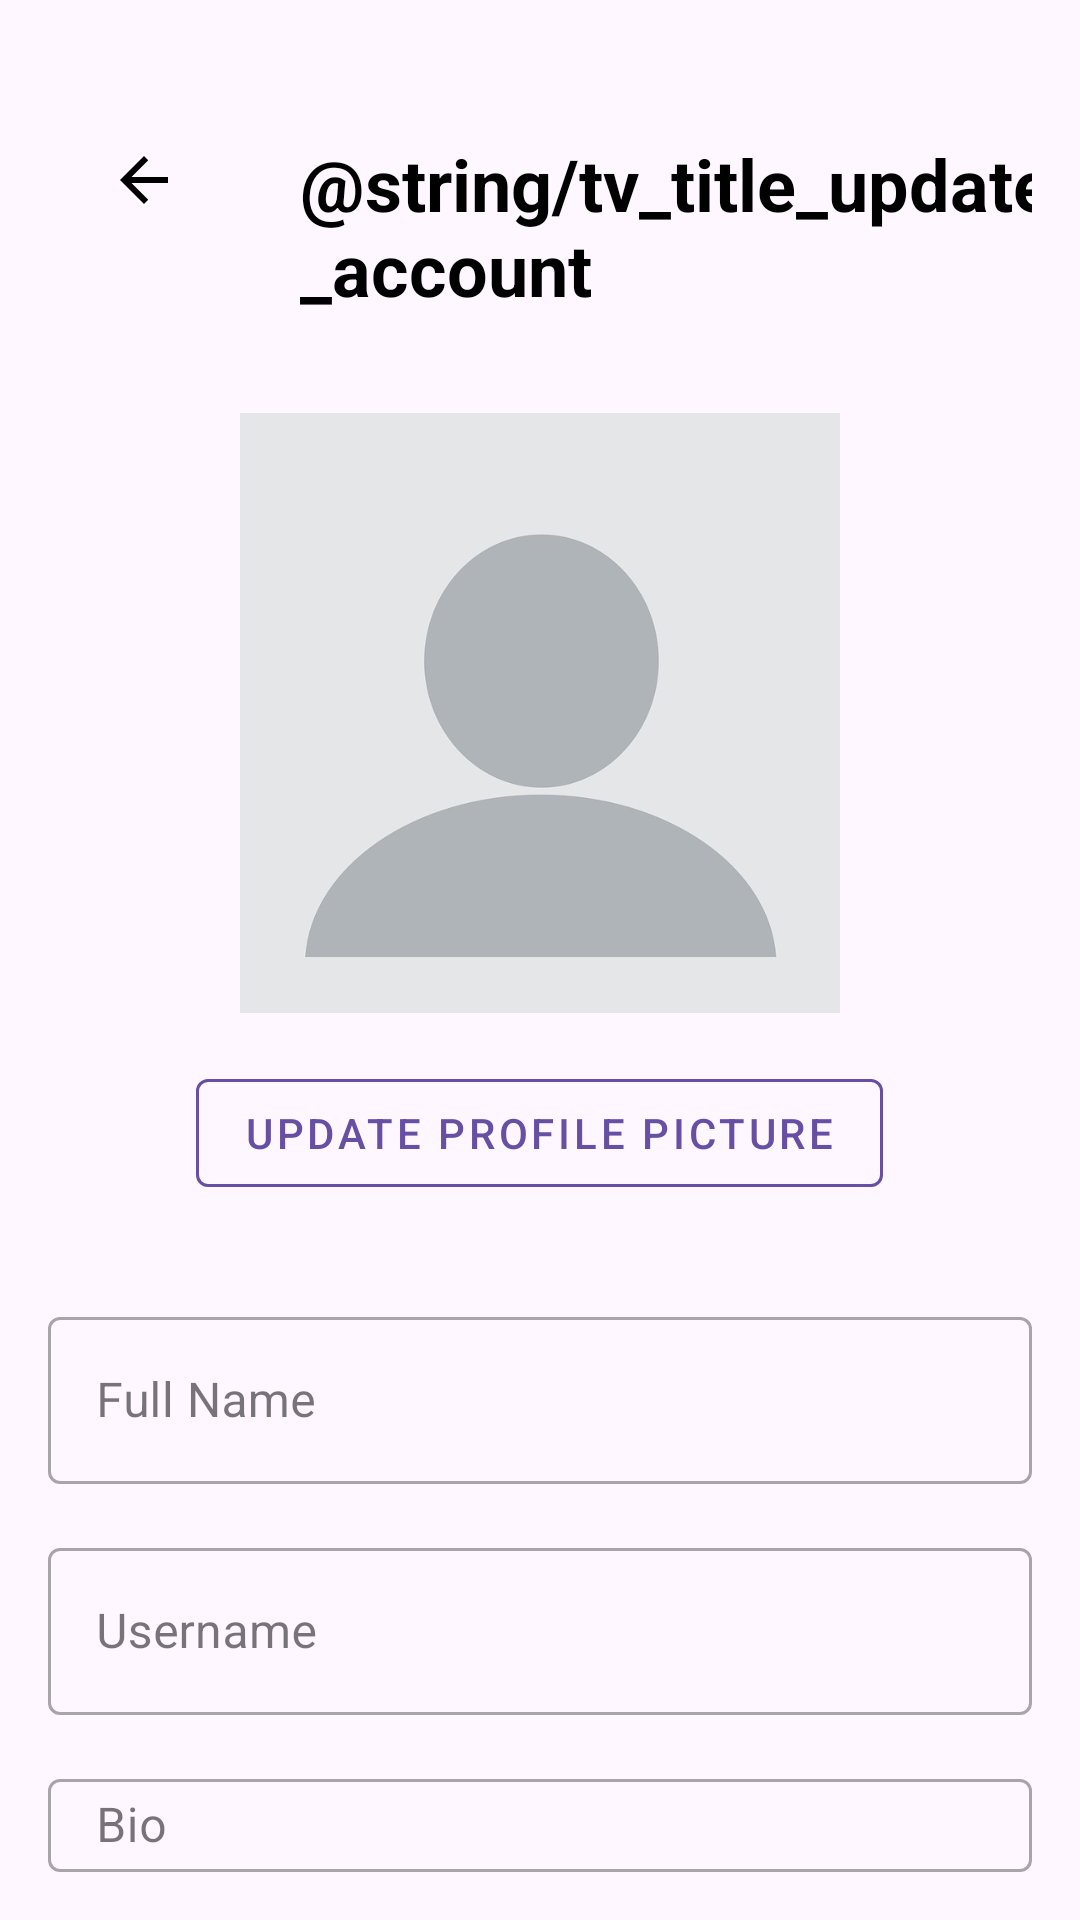

Point at icon controls on the screen. Image size 1080*1920, points as (x,y).
Back Button: (144,180)
